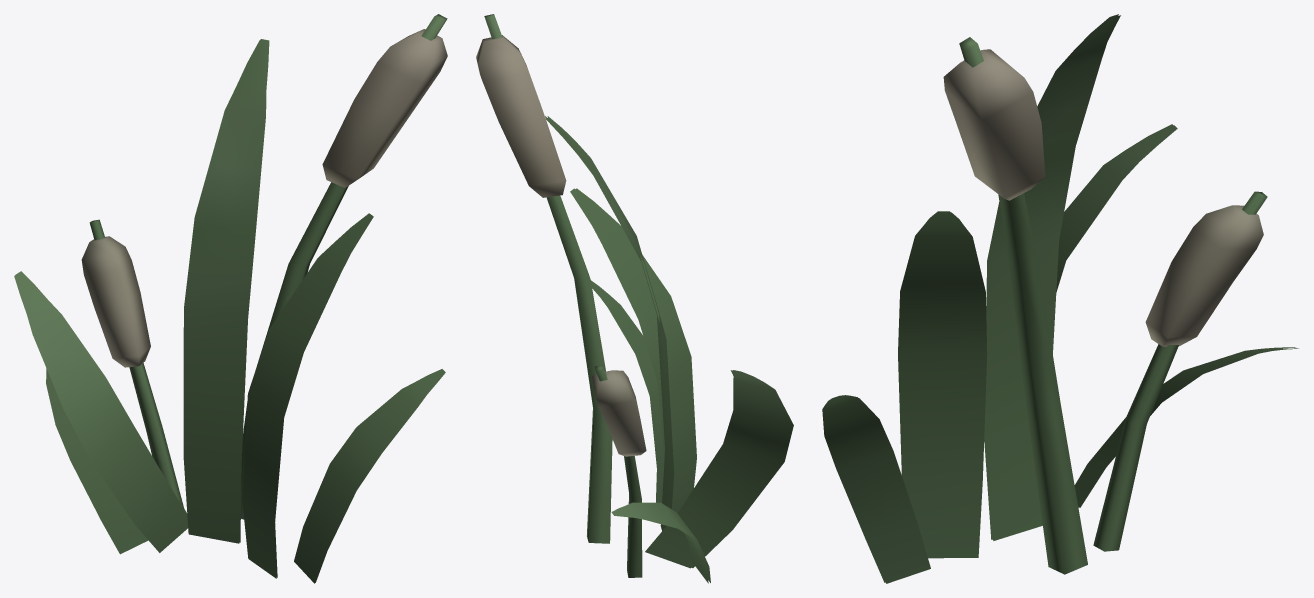
Rendered from Grass.glb.
3 views of the same model, side by side, from view 1: azimuth 30°, elevation 25°; view 2: azimuth 150°, elevation 25°; view 3: azimuth 270°, elevation 25° (orthographic). The views are drawn at different scales.
Parts seen in each view (by area): view 1: ct_town_reeds; view 2: ct_town_reeds; view 3: ct_town_reeds.
Boxes of the visible parts, x1,y1,x2,y2 form: ct_town_reeds: [14, 14, 447, 583]; ct_town_reeds: [476, 14, 793, 583]; ct_town_reeds: [822, 14, 1298, 583].
Size of the model in its own units: 0.6148 by 0.8119 by 0.5481.
1 material, 1 textured.
